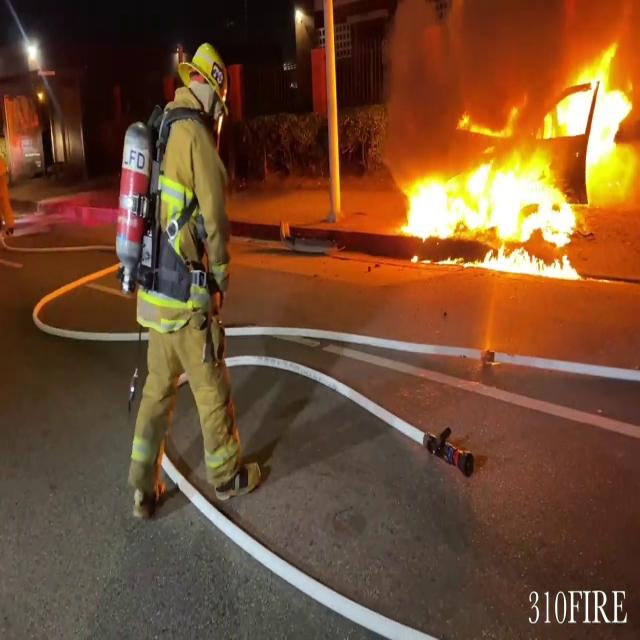Fire: (388, 37, 640, 280)
